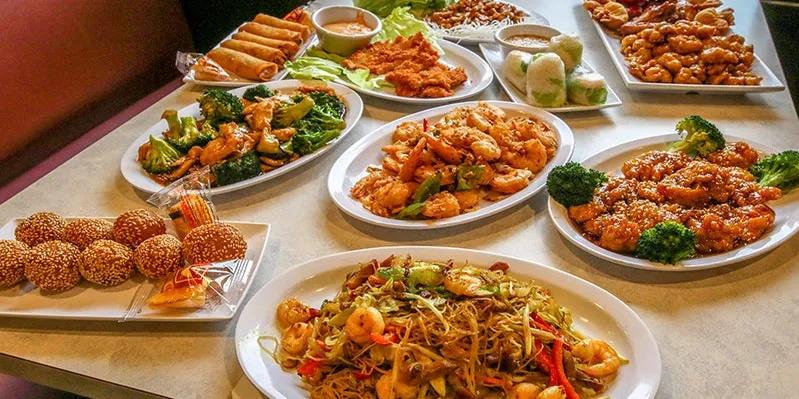Braised Crucian Carp: (234, 245, 650, 395), (552, 132, 799, 271), (326, 101, 569, 230), (0, 216, 268, 322), (120, 82, 354, 199), (587, 3, 783, 92), (307, 37, 491, 105), (479, 41, 621, 113), (181, 12, 321, 85)
